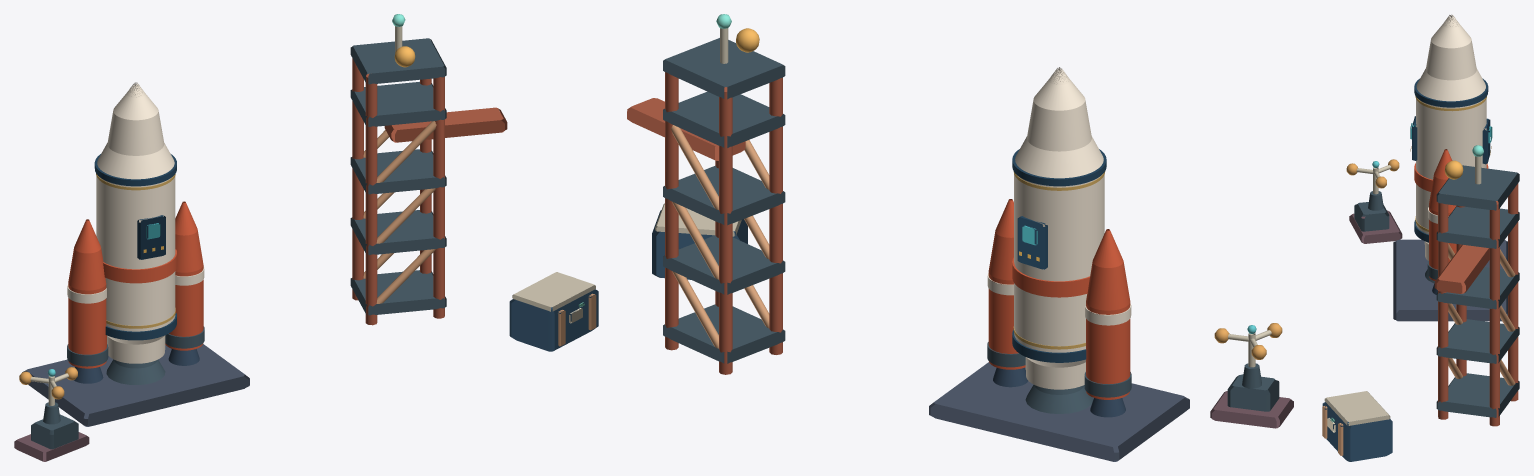
Rendered from cohete.obj.
3 renders of one model, left to right at view 1: azimuth 30°, elevation 25°; view 2: azimuth 150°, elevation 25°; view 3: azimuth 270°, elevation 25°, orthographic. The views are drawn at different scales.
Parts seen in each view (by area): view 1: cohete; view 2: cohete; view 3: cohete.
Part boxes in pixels (<box>): cohete: <box>14,14,598,461</box>; cohete: <box>627,14,1293,461</box>; cohete: <box>1322,14,1519,461</box>.
Bounding box in the file's own units: 1.56 × 0.8041 × 0.5289.
